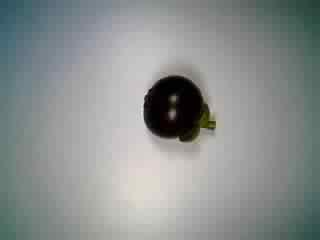mangosteen: (141, 72, 221, 148)
